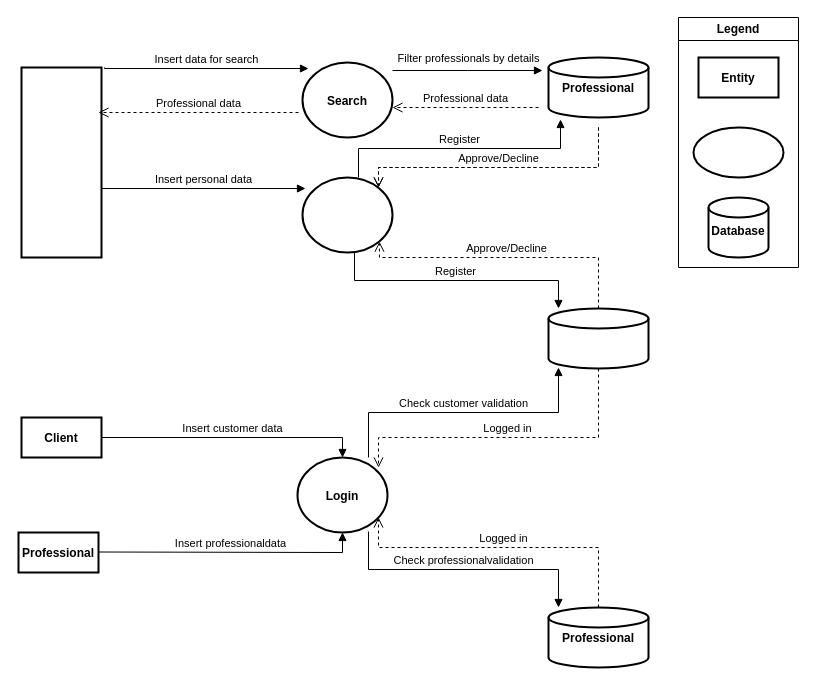
This 816x686 diagram has some shape labels left out. Each missing label, with the centre of its shape:
Customer: the point at 598,338
Guest: the point at 61,162
Process: the point at 738,152
Sign up: the point at 347,214
